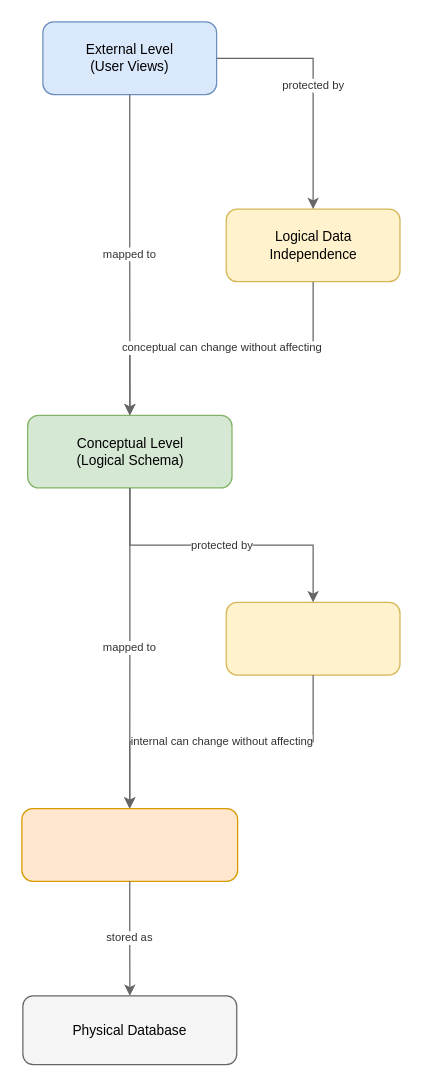
Some shapes in this 423 by 1088 pixel diagram are drawn without their labels. Each missing label, with the centre of its shape:
"Internal Level (Physical Schema)" goes at (x=129, y=844).
"Physical Data Independence" goes at (x=312, y=638).
